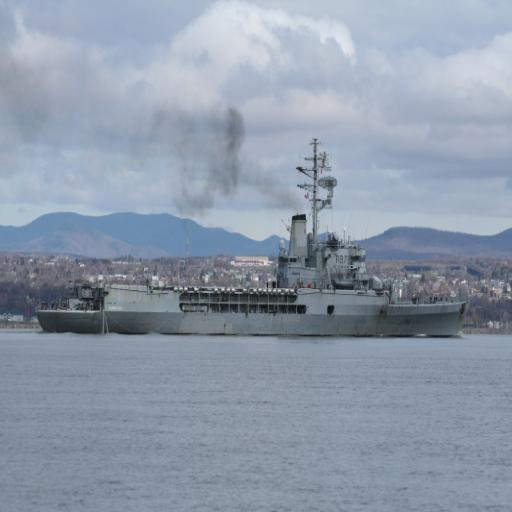Portanaves: (36, 135, 472, 342)
